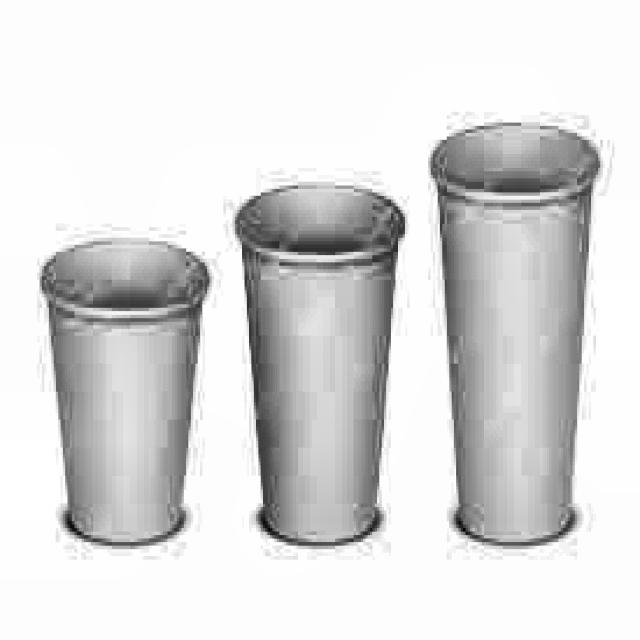Cup: (424, 111, 602, 548), (227, 171, 410, 556), (39, 227, 213, 549)
